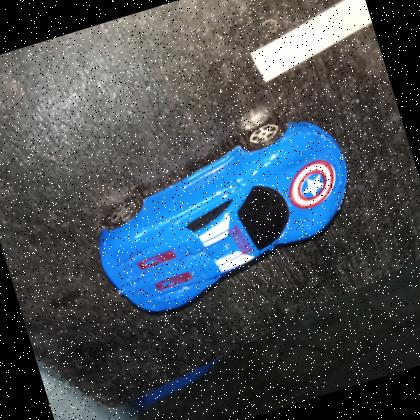Car: (76, 105, 375, 328)
